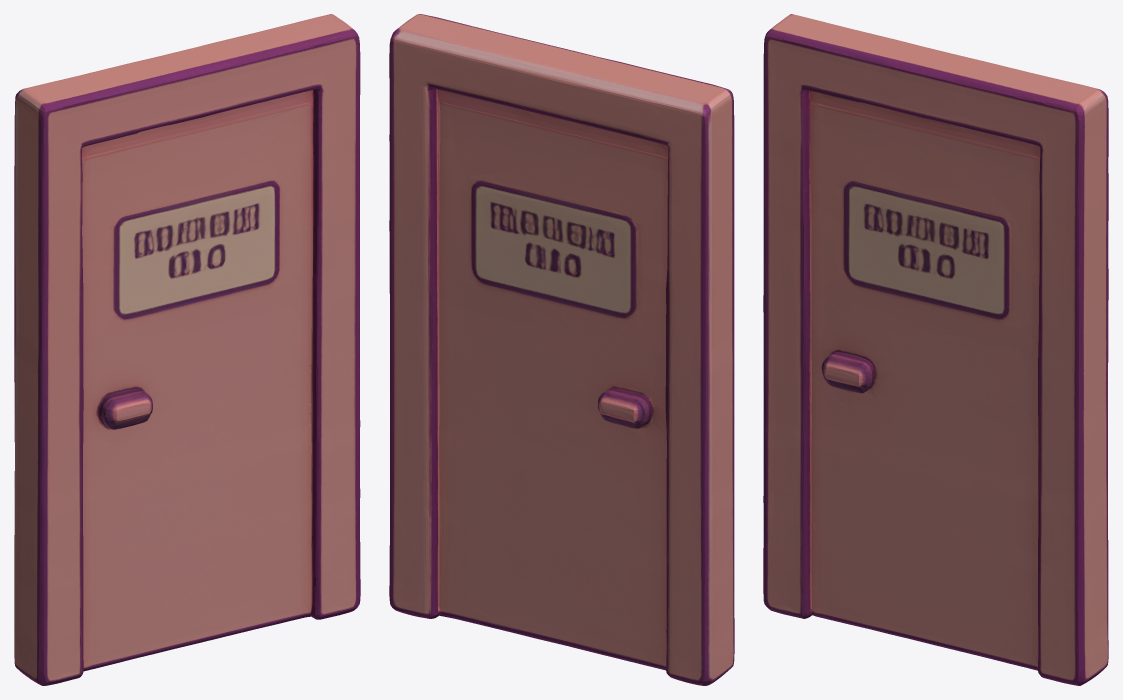
The picture shows the model from 3 angles, left to right: view 1: azimuth 30°, elevation 25°; view 2: azimuth 150°, elevation 25°; view 3: azimuth 330°, elevation 25°; orthographic projection.
Visible parts, largest first — view 1: world; view 2: world; view 3: world.
Part boxes in pixels (x1=…): world: x1=14, y1=14, x2=360, y2=685; world: x1=389, y1=14, x2=734, y2=685; world: x1=763, y1=14, x2=1108, y2=685.
Bounding box in the file's own units: 57.99 × 100 × 12.13.
Materials: 1 (1 with a texture image).
